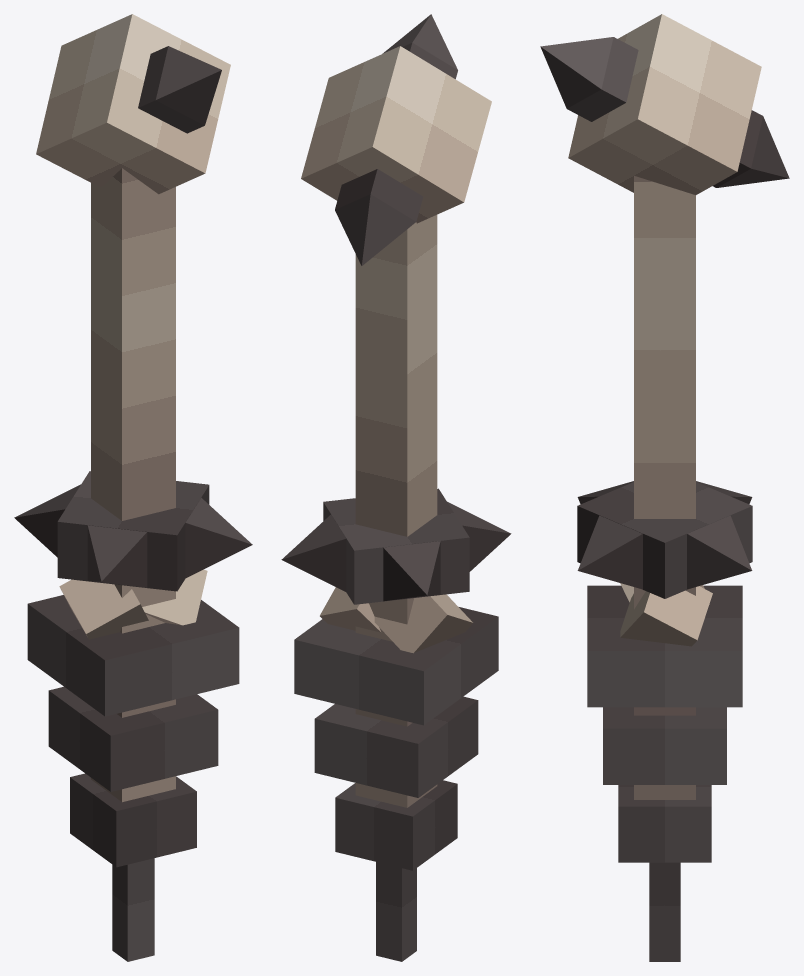
Rendered from arm_blaster_r.obj.
3 renders of one model, left to right at view 1: azimuth 30°, elevation 25°; view 2: azimuth 150°, elevation 25°; view 3: azimuth 270°, elevation 25°, orthographic. The views are drawn at different scales.
Visible parts, largest first — view 1: ARM_RIGHT_BONE_BLASTER_Cube.448; view 2: ARM_RIGHT_BONE_BLASTER_Cube.448; view 3: ARM_RIGHT_BONE_BLASTER_Cube.448.
Part boxes in pixels (left/top/right/bottom): ARM_RIGHT_BONE_BLASTER_Cube.448: left=14, top=14, right=252, bottom=961; ARM_RIGHT_BONE_BLASTER_Cube.448: left=281, top=14, right=511, bottom=961; ARM_RIGHT_BONE_BLASTER_Cube.448: left=540, top=14, right=789, bottom=961.
Size of the model in its own units: 0.1951 by 1.05 by 0.2514.
